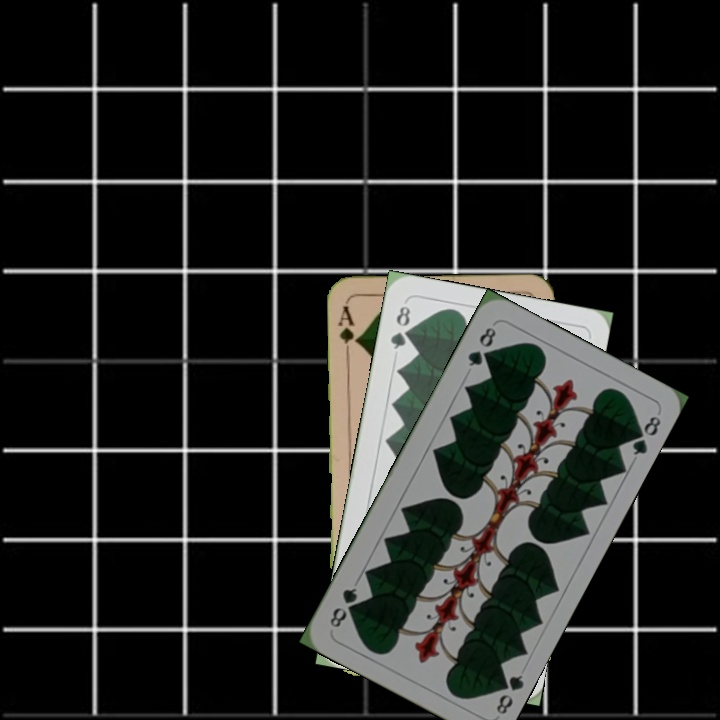G8: (463, 320, 499, 369), (491, 670, 527, 717), (386, 301, 413, 352)
GA: (334, 301, 361, 359)
